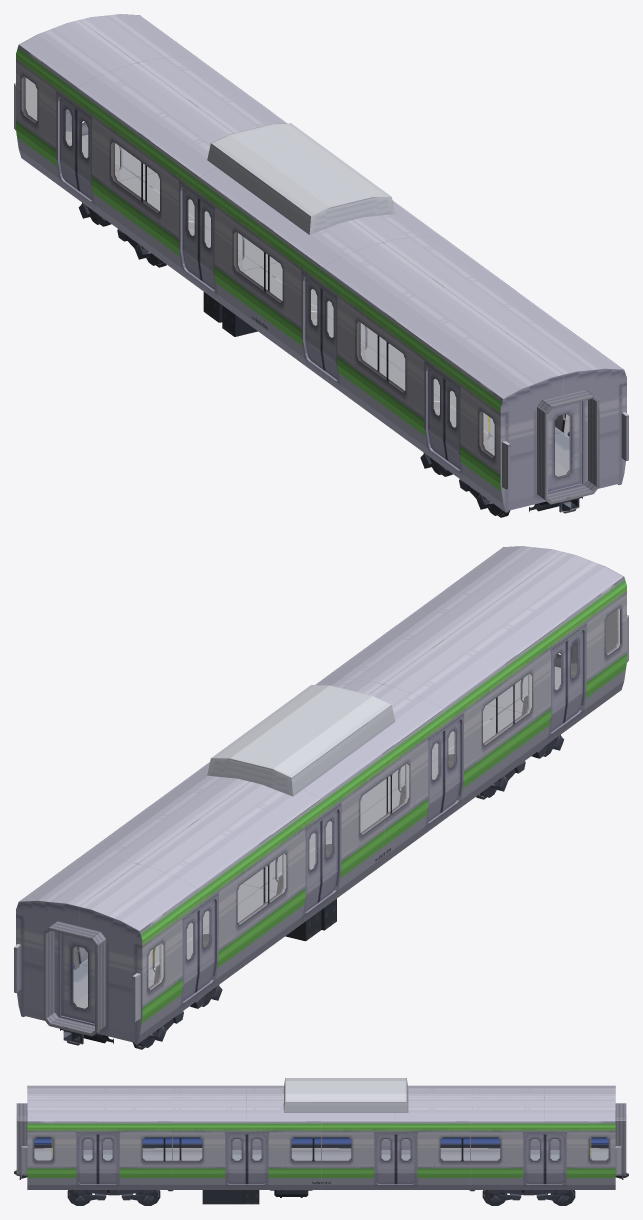
Rendered from jr_east_saha_e231_500.obj.
The picture shows the model from 3 angles, top to bottom: view 1: azimuth 30°, elevation 25°; view 2: azimuth 150°, elevation 25°; view 3: azimuth 270°, elevation 25°; orthographic projection. The views are drawn at different scales.
Visible parts, largest first — view 1: body_ext, tail_ext, body_int, door_right_negative_ext, door_right_positive_ext, front_door; view 2: body_ext, tail_ext, body_int, door_right_positive_ext, door_right_negative_ext, back_door; view 3: body_ext, tail_ext, body_int, door_left_negative_ext, door_left_positive_ext, bogie_0, bogie_1, door_right_positive_int, door_right_negative_int.
Boxes of the visible parts, box(x1,y1,x2,y2) form: body_ext: box(56, 56, 565, 473); tail_ext: box(14, 14, 628, 513); body_int: box(23, 76, 569, 476); door_right_negative_ext: box(60, 98, 446, 459); door_right_positive_ext: box(76, 109, 460, 469); front_door: box(548, 401, 581, 491); body_ext: box(77, 588, 586, 1005); tail_ext: box(14, 546, 628, 1045); body_int: box(73, 608, 619, 1008); door_right_positive_ext: box(196, 630, 582, 991); door_right_negative_ext: box(182, 641, 566, 1001); back_door: box(61, 933, 94, 1023); body_ext: box(76, 1078, 566, 1204); tail_ext: box(14, 1085, 628, 1189); body_int: box(34, 1137, 608, 1161); door_left_negative_ext: box(98, 1134, 564, 1184); door_left_positive_ext: box(78, 1134, 544, 1184); bogie_0: box(73, 1190, 154, 1204); bogie_1: box(488, 1190, 569, 1204); door_right_positive_int: box(83, 1139, 539, 1149); door_right_negative_int: box(103, 1139, 559, 1149).
Bounding box in the file's own units: 2.94 × 4.09 × 20.38.
4 materials, 4 textured.
